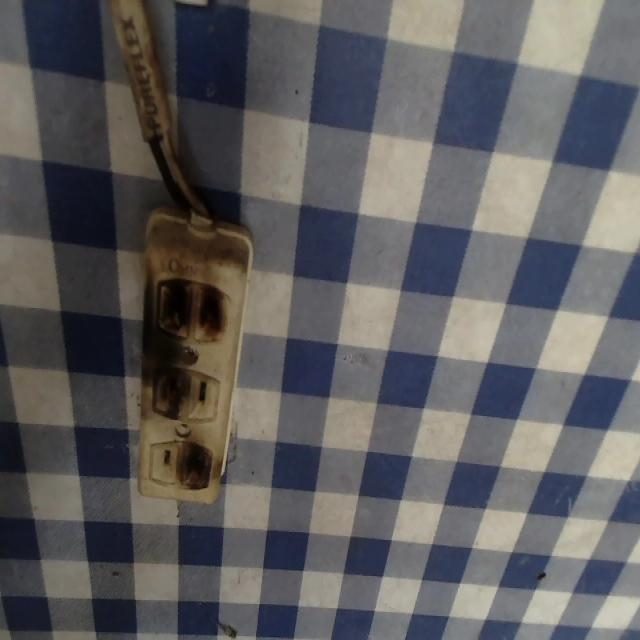-: (153, 274, 229, 342), (145, 365, 190, 420), (179, 439, 214, 492)
